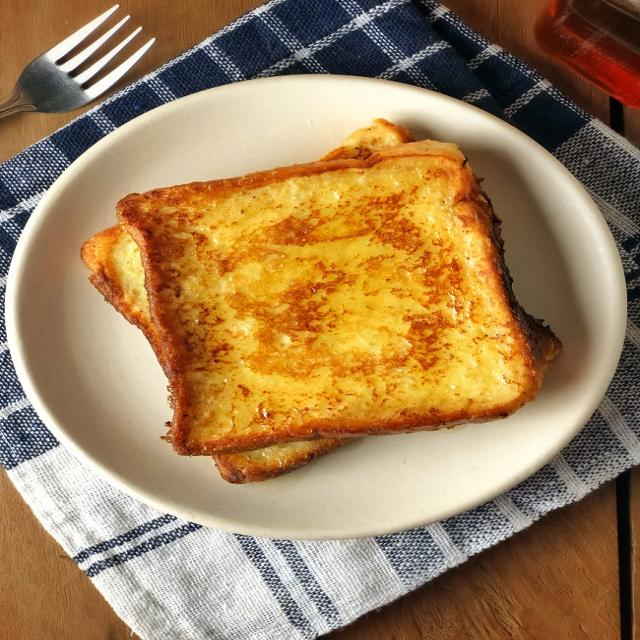Bread: (82, 119, 561, 482)
